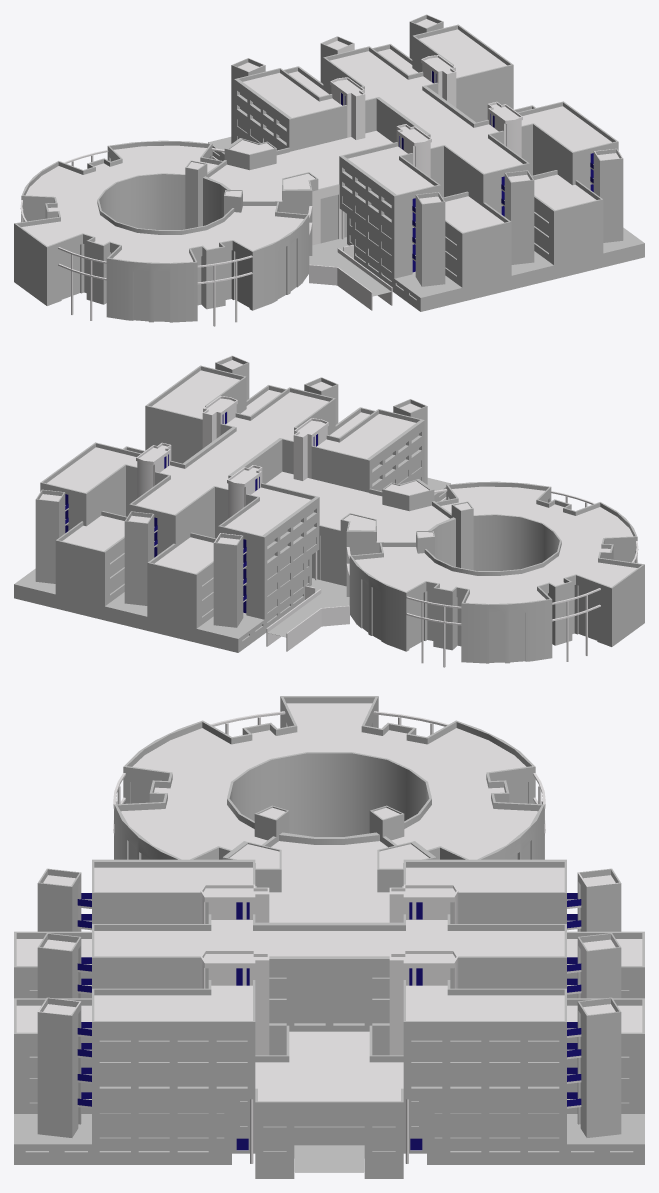
File: HUMANIDADES.FBX
3 views of the same model, one above another, from view 1: azimuth 30°, elevation 25°; view 2: azimuth 150°, elevation 25°; view 3: azimuth 270°, elevation 25° (orthographic). The views are drawn at different scales.
Parts seen in each view (by area): view 1: MUROS HUMANAS, BLANCO MATE, VENHO_HUMANAS, PAVIMENTO, VENHO_HUMANAS_V, MORADO; view 2: MUROS HUMANAS, BLANCO MATE, VENHO_HUMANAS, PAVIMENTO, VENHO_HUMANAS_V, MORADO; view 3: MUROS HUMANAS, BLANCO MATE, VENHO_HUMANAS, MUROS HUMANAS_GRIS, PAVIMENTO, MORADO, VENHO_HUMANAS_V.
Part boxes in pixels (x1,y1,x2,y2): MUROS HUMANAS: (14, 14, 644, 322); BLANCO MATE: (20, 19, 619, 326); VENHO_HUMANAS: (26, 73, 548, 321); PAVIMENTO: (208, 137, 644, 297); VENHO_HUMANAS_V: (320, 195, 346, 243); MORADO: (341, 71, 593, 272); MUROS HUMANAS: (14, 355, 644, 663); BLANCO MATE: (39, 360, 638, 667); VENHO_HUMANAS: (110, 414, 632, 662); PAVIMENTO: (14, 478, 450, 638); VENHO_HUMANAS_V: (312, 536, 338, 584); MORADO: (65, 412, 317, 613); MUROS HUMANAS: (14, 696, 644, 1178); BLANCO MATE: (16, 703, 642, 1163); VENHO_HUMANAS: (25, 782, 633, 1151); MUROS HUMANAS_GRIS: (99, 977, 559, 1076); PAVIMENTO: (14, 899, 644, 1172); MORADO: (77, 893, 581, 1150); VENHO_HUMANAS_V: (294, 972, 364, 1023).
Size of the model in its own units: 144 by 27.22 by 97.2.
